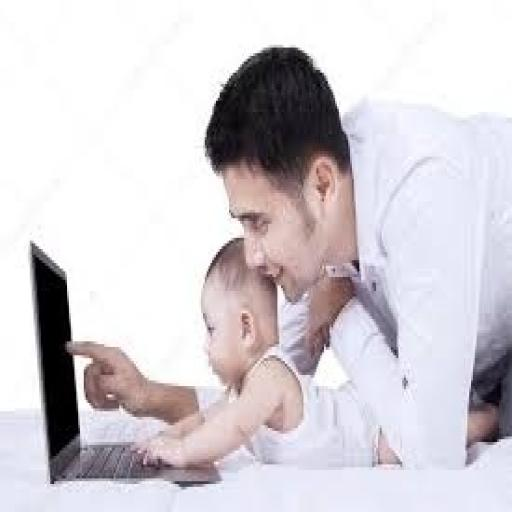using_laptop: (26, 235, 222, 487)
